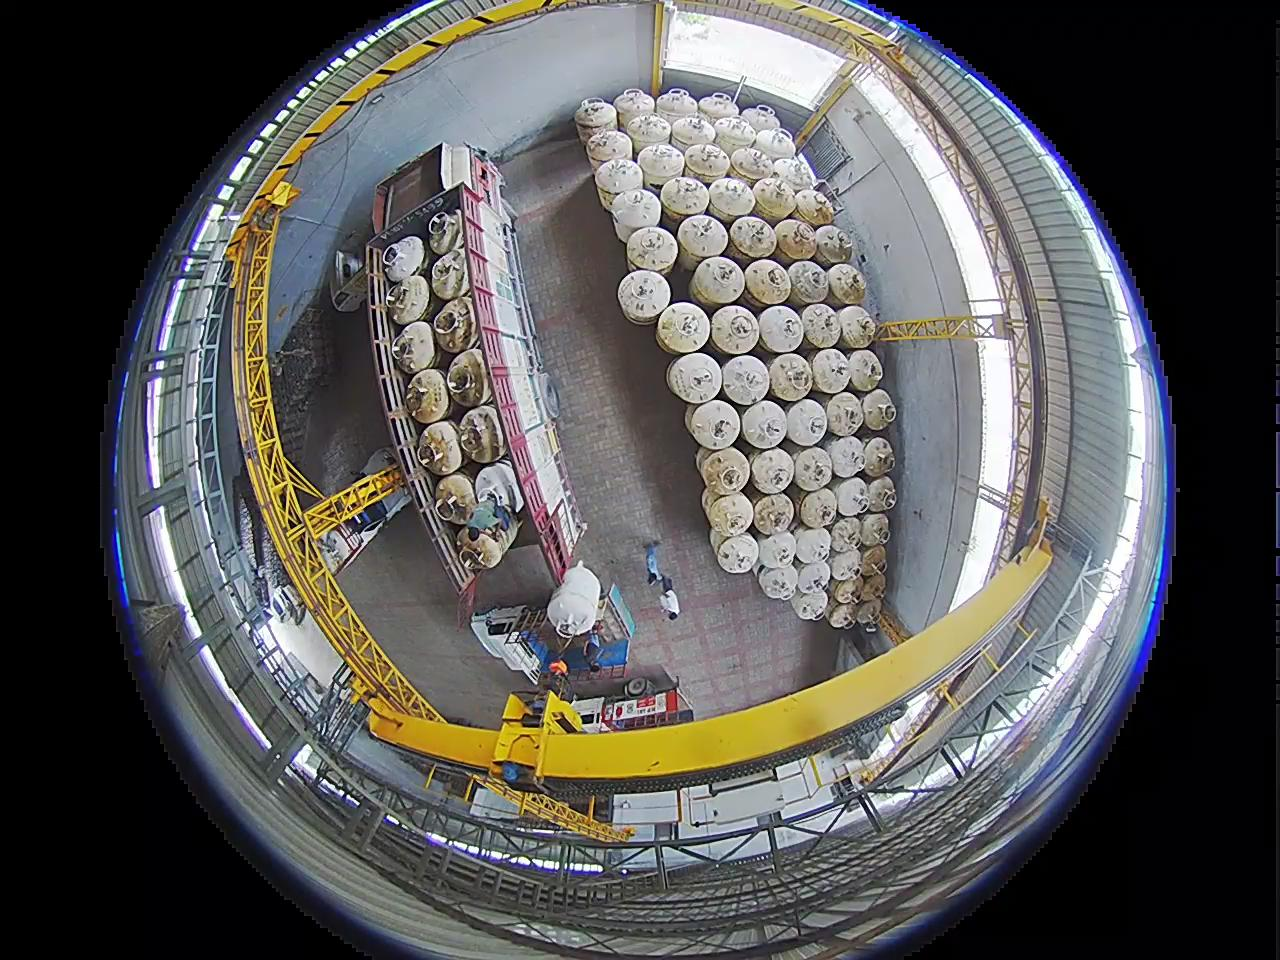cylinder: (665, 337, 738, 418), (537, 570, 612, 633), (655, 301, 710, 352), (690, 256, 745, 308), (710, 304, 762, 355), (618, 269, 669, 321), (720, 355, 771, 405), (740, 399, 790, 451), (676, 213, 729, 262), (697, 447, 750, 496), (415, 418, 464, 472), (404, 368, 452, 423), (391, 321, 436, 375), (626, 226, 676, 274), (612, 191, 660, 241), (433, 296, 478, 351), (757, 306, 806, 354), (744, 258, 793, 306), (385, 275, 430, 327), (636, 142, 686, 188), (749, 446, 796, 493), (596, 155, 644, 202), (707, 175, 756, 221), (659, 175, 710, 220), (767, 353, 813, 400), (429, 247, 470, 301), (585, 127, 632, 172), (729, 215, 777, 259), (382, 236, 426, 284), (433, 473, 478, 521), (785, 398, 829, 446), (707, 492, 754, 536), (790, 446, 835, 491), (625, 112, 673, 153), (573, 97, 618, 141), (787, 260, 830, 306), (809, 348, 852, 393), (752, 176, 797, 219), (669, 115, 717, 155), (799, 304, 842, 348), (837, 305, 878, 350), (823, 391, 865, 437), (775, 219, 820, 260), (752, 493, 795, 535), (826, 263, 869, 306), (798, 487, 840, 530), (717, 533, 760, 574), (655, 88, 698, 128), (827, 434, 867, 478), (730, 145, 775, 184), (428, 210, 466, 256), (814, 226, 855, 267), (833, 475, 872, 517), (793, 188, 836, 227), (847, 349, 885, 392), (713, 116, 757, 153), (792, 525, 833, 566), (757, 530, 798, 570), (613, 88, 655, 126), (861, 388, 898, 431), (770, 157, 812, 194), (754, 127, 796, 162), (696, 92, 739, 127), (757, 564, 797, 600), (861, 436, 896, 476), (790, 586, 827, 621), (740, 104, 780, 136), (828, 515, 863, 553), (865, 475, 898, 513), (795, 560, 830, 595), (859, 513, 892, 549), (828, 549, 862, 583), (826, 598, 861, 630), (830, 575, 862, 606), (710, 527, 738, 561), (860, 545, 888, 576), (859, 571, 887, 600), (856, 599, 883, 628)
truck: (365, 143, 584, 586), (472, 606, 677, 699), (289, 448, 416, 579), (554, 684, 685, 756), (309, 229, 359, 335)
